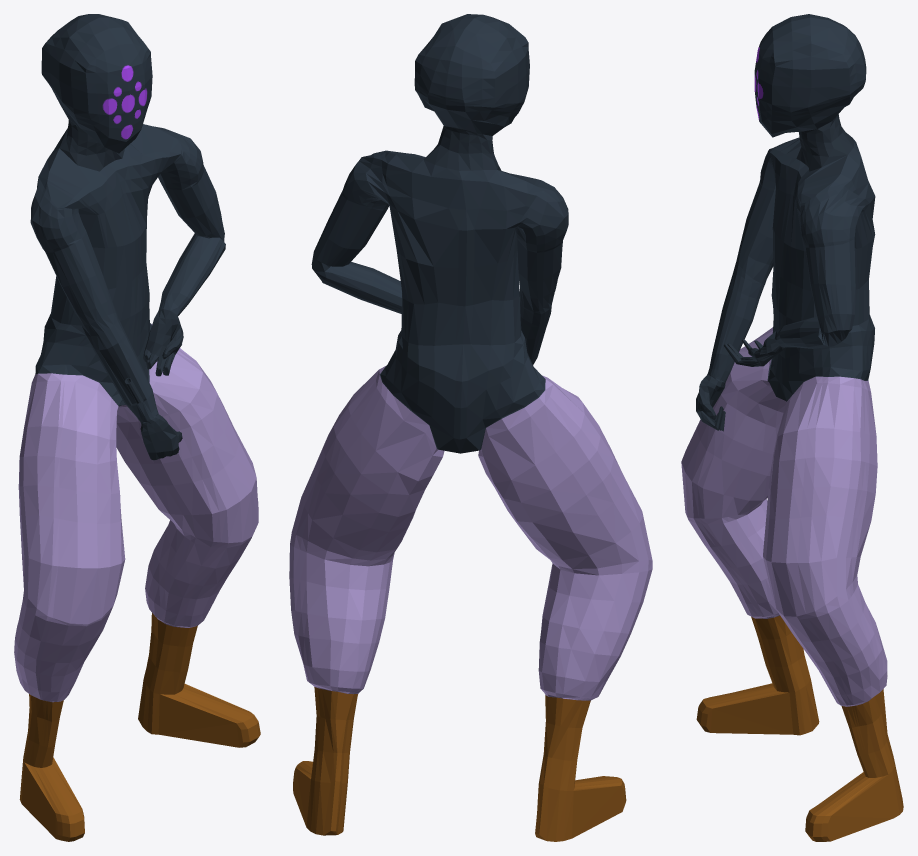
File: Oracle_WL_000016.obj
3 renders of one model, left to right at view 1: azimuth 30°, elevation 25°; view 2: azimuth 150°, elevation 25°; view 3: azimuth 270°, elevation 25°, orthographic. The views are drawn at different scales.
Parts seen in each view (by area): view 1: Cube; view 2: Cube; view 3: Cube.
Part boxes in pixels (left/top/right/bottom): Cube: left=14, top=14, right=260, bottom=841; Cube: left=289, top=14, right=652, bottom=841; Cube: left=681, top=14, right=903, bottom=841.
Bounding box in the file's own units: 1.45 × 3.75 × 1.01.
